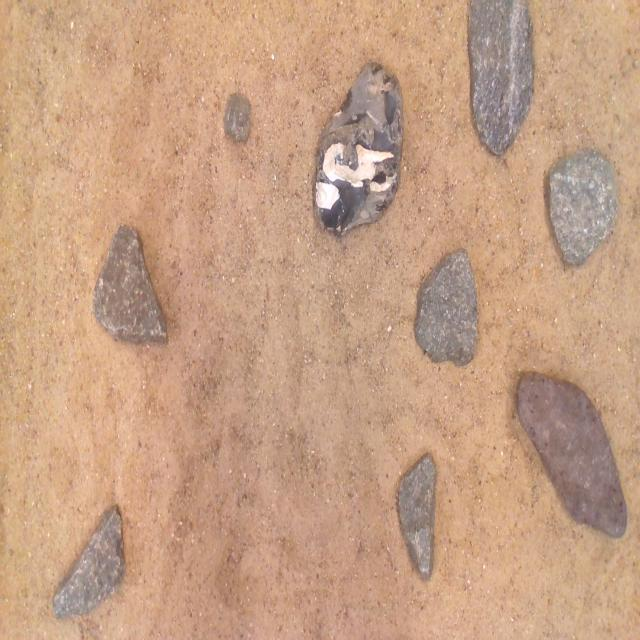rock: (517, 373, 626, 537), (315, 63, 403, 233), (468, 0, 534, 155), (93, 225, 166, 343), (53, 505, 125, 617), (549, 149, 618, 264), (415, 249, 477, 366), (398, 455, 436, 579), (224, 92, 251, 142)
